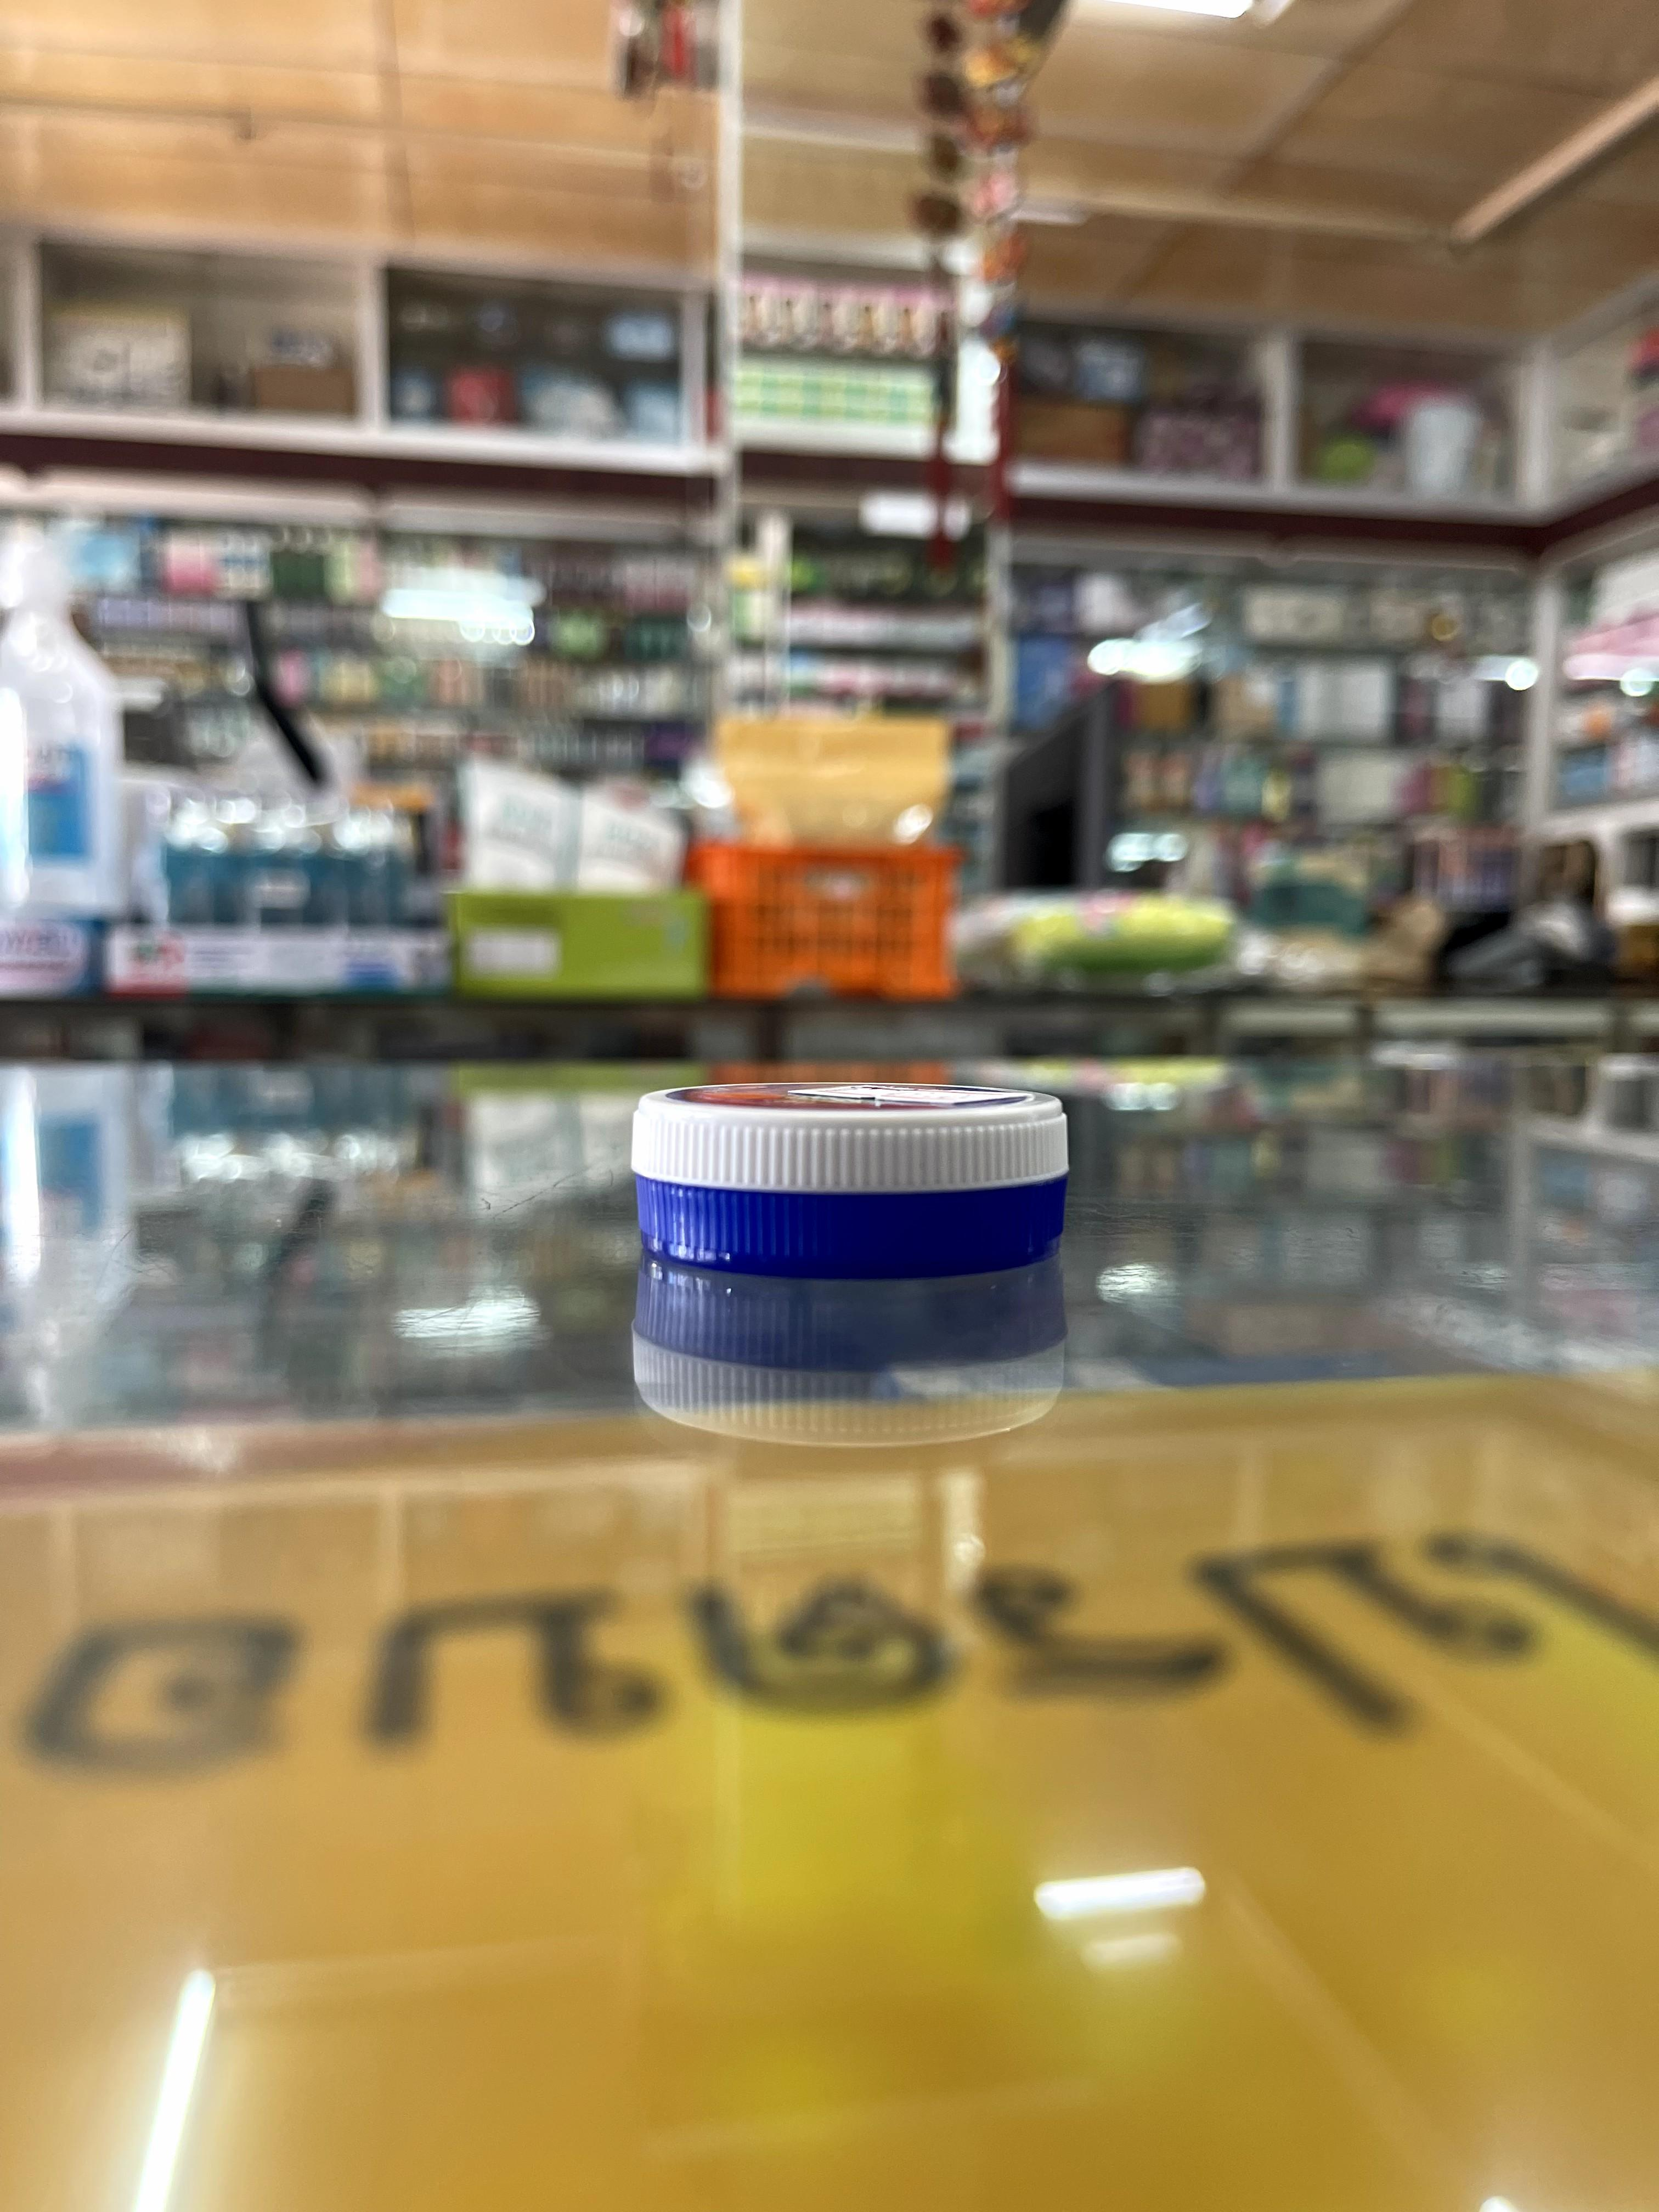VapoRub_Small: (634, 1078, 1065, 1280)
